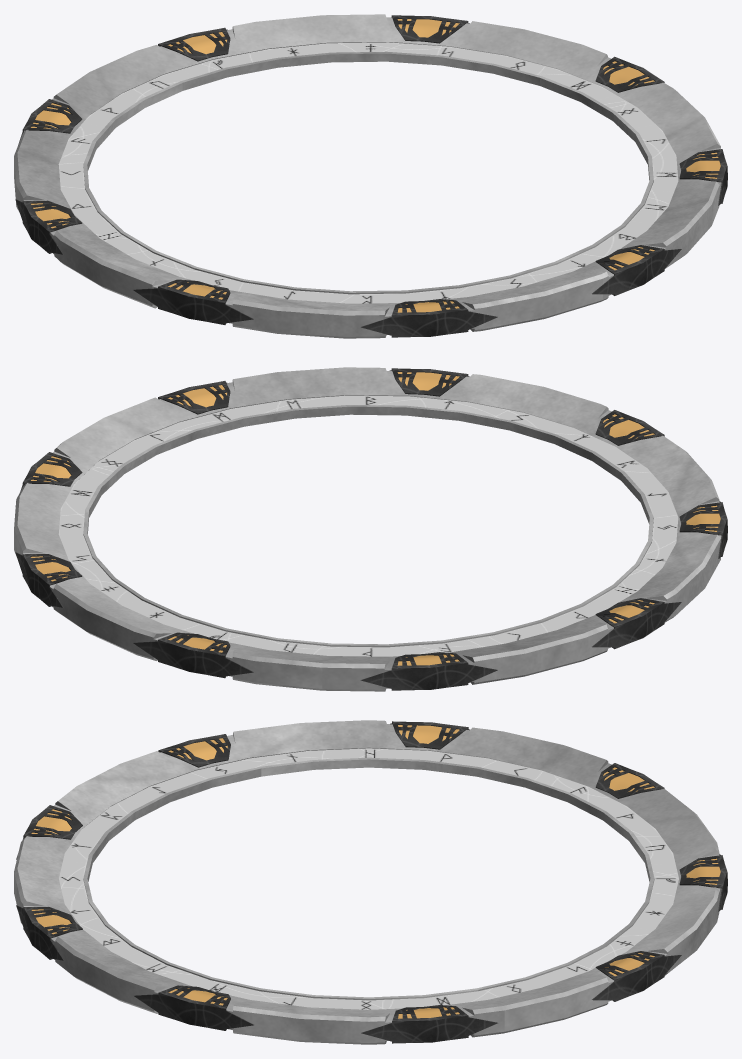
The model's file is stargate12.dae.
3 views of the same model, one above another, from view 1: azimuth 30°, elevation 25°; view 2: azimuth 150°, elevation 25°; view 3: azimuth 270°, elevation 25° (orthographic).
Parts seen in each view (by area): view 1: Ring, Chevron.005, Chevron.006, Chevron.004, Chevron.007, Chevron.001, Chevron, Chevron.002, Chevron.003, Chevron.008; view 2: Ring, Chevron.008, Chevron, Chevron.007, Chevron.001, Chevron.004, Chevron.003, Chevron.005, Chevron.006, Chevron.002; view 3: Ring, Chevron.002, Chevron.003, Chevron.001, Chevron.004, Chevron.007, Chevron.006, Chevron.008, Chevron, Chevron.005.
Part boxes in pixels (bbox=[...]): Ring: bbox=[14, 14, 721, 338]; Chevron.005: bbox=[361, 299, 497, 337]; Chevron.006: bbox=[133, 279, 253, 324]; Chevron.004: bbox=[592, 245, 681, 295]; Chevron.007: bbox=[15, 199, 82, 254]; Chevron.001: bbox=[391, 15, 469, 43]; Chevron: bbox=[158, 27, 230, 61]; Chevron.002: bbox=[595, 56, 664, 92]; Chevron.003: bbox=[679, 149, 727, 205]; Chevron.008: bbox=[18, 99, 82, 143]; Ring: bbox=[14, 367, 721, 691]; Chevron.008: bbox=[360, 652, 497, 690]; Chevron: bbox=[133, 632, 253, 678]; Chevron.007: bbox=[592, 598, 681, 649]; Chevron.001: bbox=[15, 552, 82, 607]; Chevron.004: bbox=[389, 368, 469, 396]; Chevron.003: bbox=[158, 381, 230, 414]; Chevron.005: bbox=[595, 410, 664, 445]; Chevron.006: bbox=[679, 501, 727, 558]; Chevron.002: bbox=[20, 452, 82, 491]; Ring: bbox=[14, 720, 721, 1044]; Chevron.002: bbox=[361, 1005, 497, 1043]; Chevron.003: bbox=[134, 985, 253, 1030]; Chevron.001: bbox=[592, 951, 681, 1001]; Chevron.004: bbox=[16, 905, 82, 960]; Chevron.007: bbox=[390, 721, 469, 749]; Chevron.006: bbox=[158, 734, 230, 767]; Chevron.008: bbox=[595, 763, 664, 798]; Chevron: bbox=[679, 854, 727, 911]; Chevron.005: bbox=[16, 805, 82, 859].
Bounding box in the file's own units: 7.04 × 7.04 × 0.3.
Materials: 21 (11 with a texture image).
